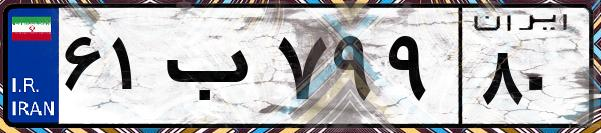0: (525, 38, 570, 115)
1: (110, 28, 158, 98)
6: (57, 26, 110, 100)
7: (270, 28, 330, 110)
8: (475, 38, 525, 113)
9: (385, 28, 445, 110), (330, 28, 385, 110)
ب: (158, 20, 270, 120)
